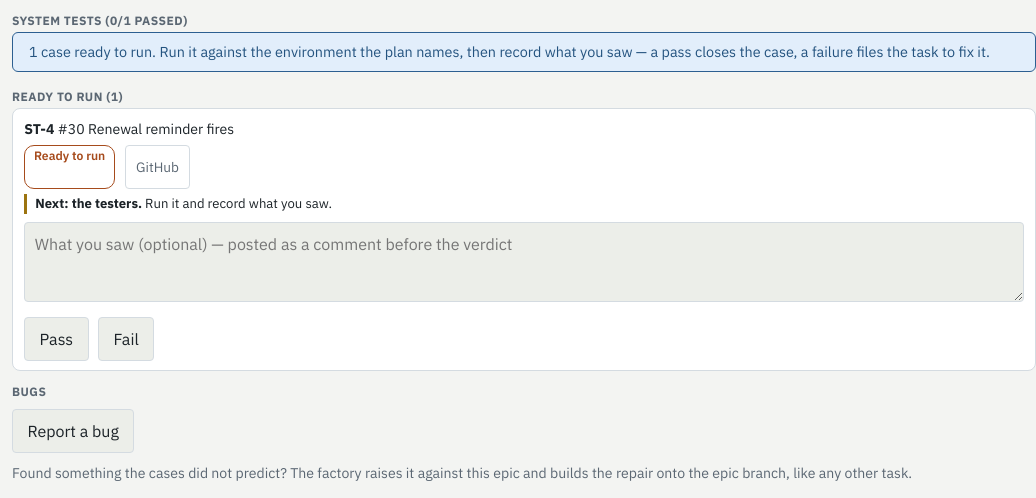
Scenario: recording a verdict › says what a failure will do before it does it
The image size is (1036, 498).
Click the button "Fail" at {"x": 126, "y": 339}, box [98,317,154,361]
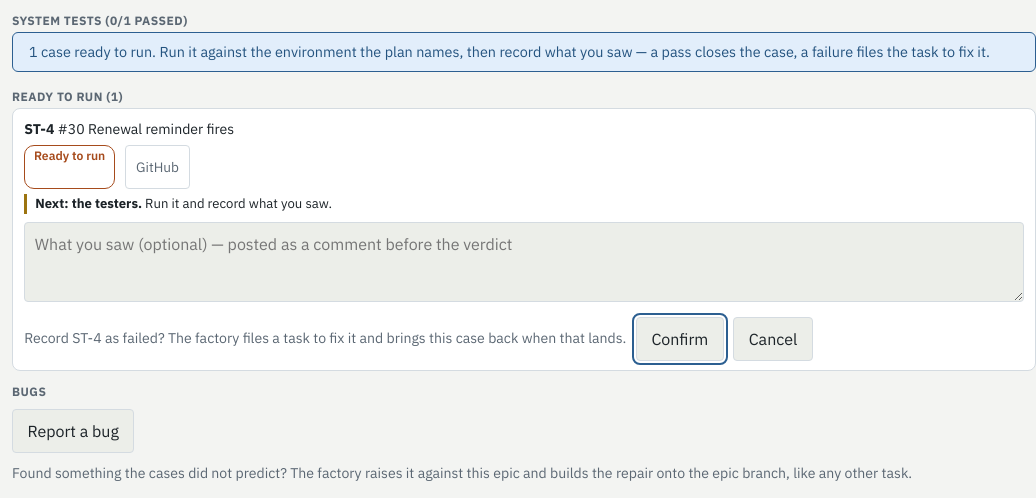
Check: the text "files a task to fix it" is shown, box [24,329,626,347]
